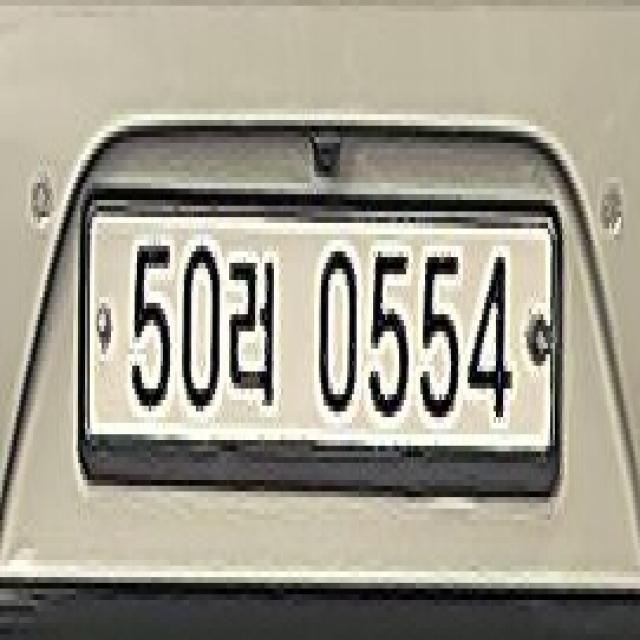0: (306, 245, 360, 422), (180, 240, 223, 415)
4: (466, 250, 520, 429)
5: (414, 238, 462, 424), (126, 240, 174, 414), (366, 243, 411, 414)
leo: (228, 244, 278, 416)
license_plate: (71, 158, 574, 510)
